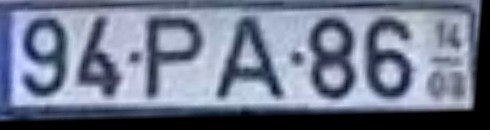4: (72, 15, 126, 105)
6: (363, 14, 419, 105)
8: (307, 13, 362, 104)
9: (19, 15, 70, 103)
A: (210, 13, 291, 104)
P: (142, 15, 211, 104)
